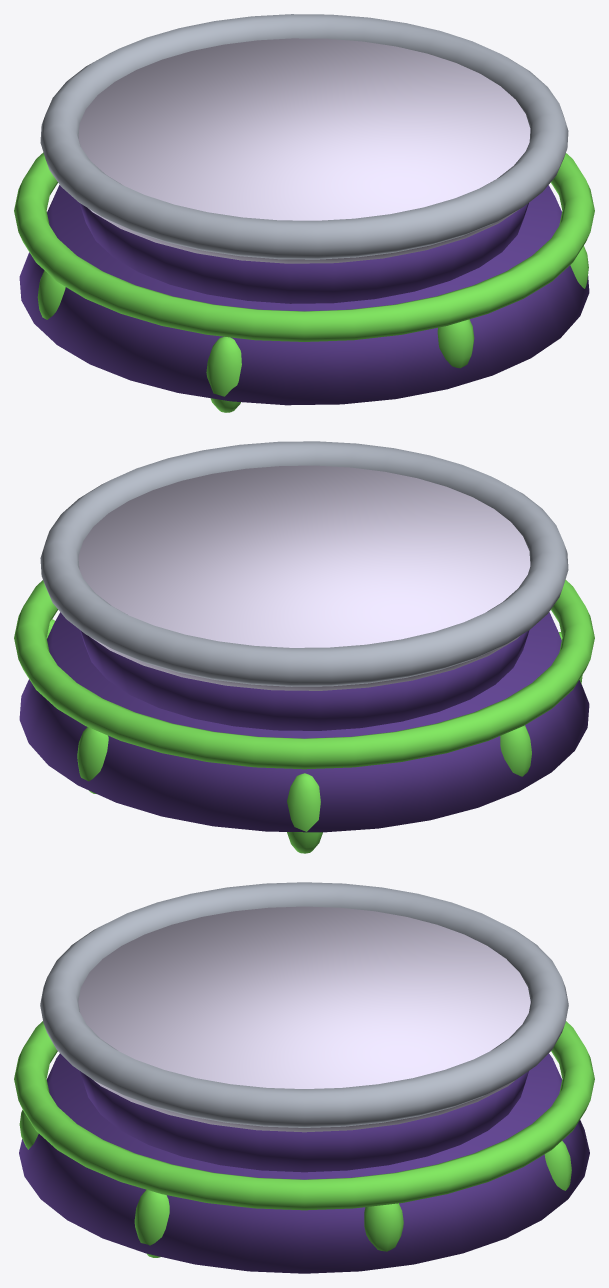
The model's file is P_Stand.fbx.
3 renders of one model, top to bottom at view 1: azimuth 30°, elevation 25°; view 2: azimuth 150°, elevation 25°; view 3: azimuth 270°, elevation 25°, orthographic.
Visible parts, largest first — view 1: P_Stand__Top, P_Stand__Base, P_Stand__Rim, P_Stand__Goo; view 2: P_Stand__Top, P_Stand__Base, P_Stand__Rim, P_Stand__Goo; view 3: P_Stand__Top, P_Stand__Base, P_Stand__Rim, P_Stand__Goo.
Part boxes in pixels (x1=…): P_Stand__Top: x1=78, y1=38, x2=530, y2=263; P_Stand__Base: x1=19, y1=185, x2=589, y2=405; P_Stand__Rim: x1=40, y1=14, x2=568, y2=259; P_Stand__Goo: x1=14, y1=152, x2=594, y2=412; P_Stand__Top: x1=78, y1=465, x2=530, y2=690; P_Stand__Base: x1=19, y1=612, x2=589, y2=832; P_Stand__Rim: x1=40, y1=441, x2=568, y2=686; P_Stand__Goo: x1=14, y1=579, x2=594, y2=853; P_Stand__Top: x1=78, y1=906, x2=530, y2=1132; P_Stand__Base: x1=19, y1=1053, x2=589, y2=1273; P_Stand__Rim: x1=40, y1=882, x2=568, y2=1127; P_Stand__Goo: x1=14, y1=1021, x2=594, y2=1257.
Size of the model in its own units: 3.56 by 1.31 by 3.56.
